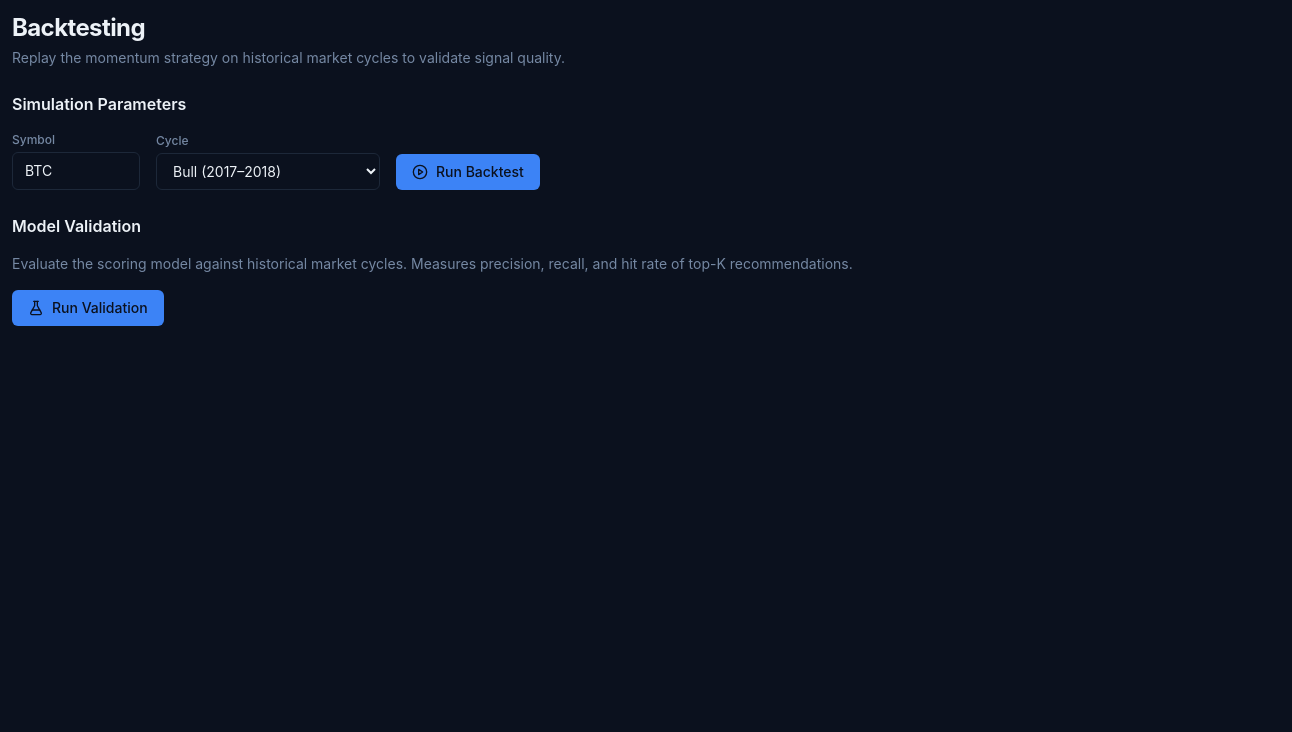
Test: Backtesting › shows_token_breakdown_table_after_validation
Click the button "Run Validation". click: (88, 308)
box: [12,290,164,326]
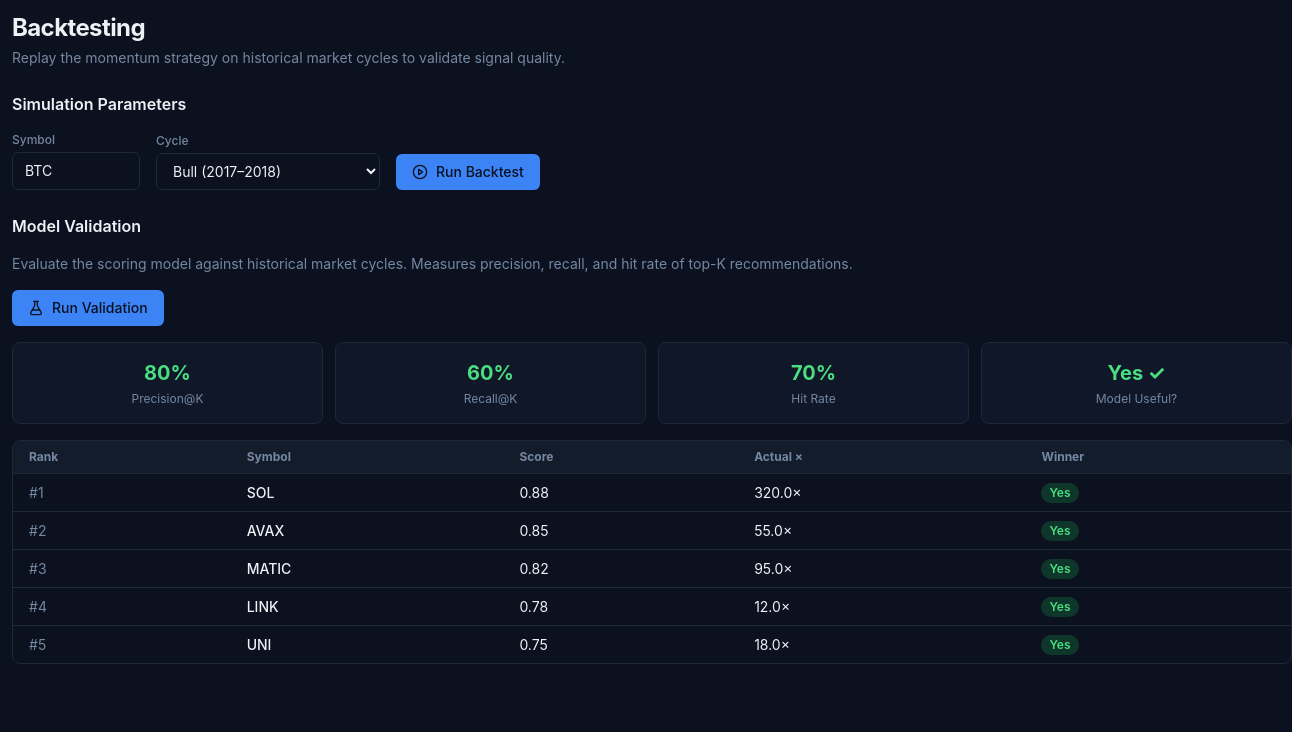
Result: the text "SOL" is shown at [231,474,503,512]
